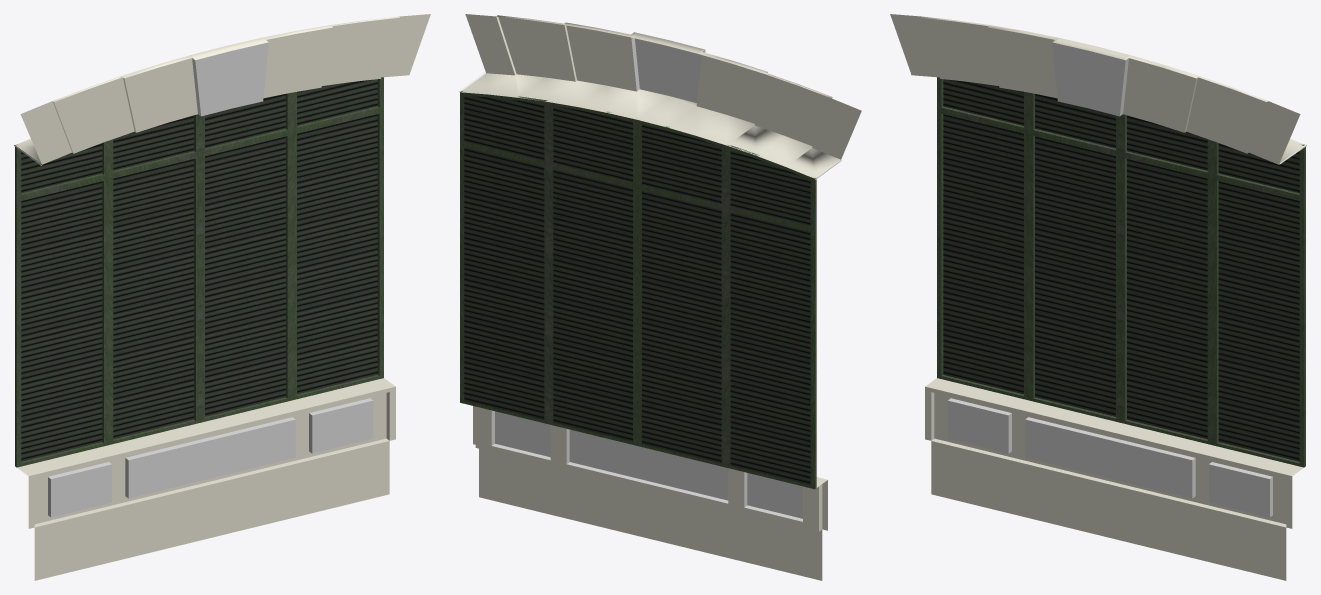
File: window_floor1_1.glb
3 views of the same model, side by side, from view 1: azimuth 30°, elevation 25°; view 2: azimuth 150°, elevation 25°; view 3: azimuth 330°, elevation 25° (orthographic). The views are drawn at different scales.
Visible parts, largest first — view 1: _C-Component#1 (Loose Mesh).001; view 2: _C-Component#1 (Loose Mesh).001; view 3: _C-Component#1 (Loose Mesh).001.
Part boxes in pixels (x1,y1,x2,y2): _C-Component#1 (Loose Mesh).001: [14, 14, 430, 580]; _C-Component#1 (Loose Mesh).001: [459, 14, 861, 580]; _C-Component#1 (Loose Mesh).001: [890, 14, 1306, 580].
Bounding box in the file's own units: 2.32 × 2.71 × 0.3281.
Materials: 5 (2 with a texture image).
